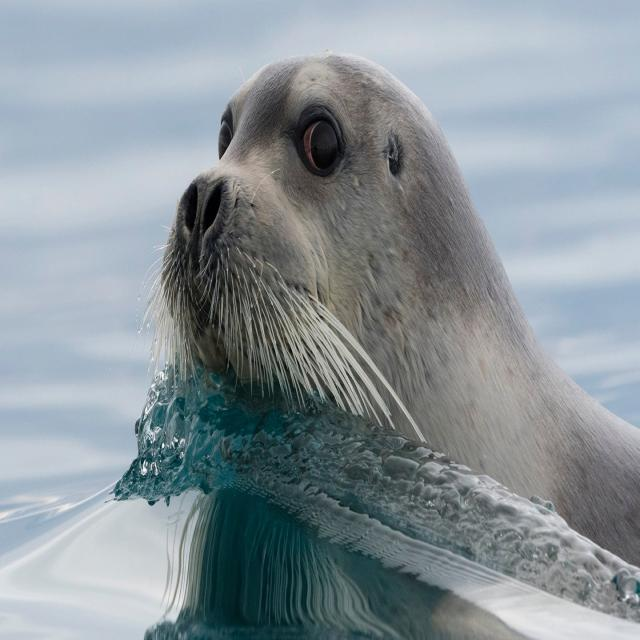WaterDog: (148, 39, 640, 573)
